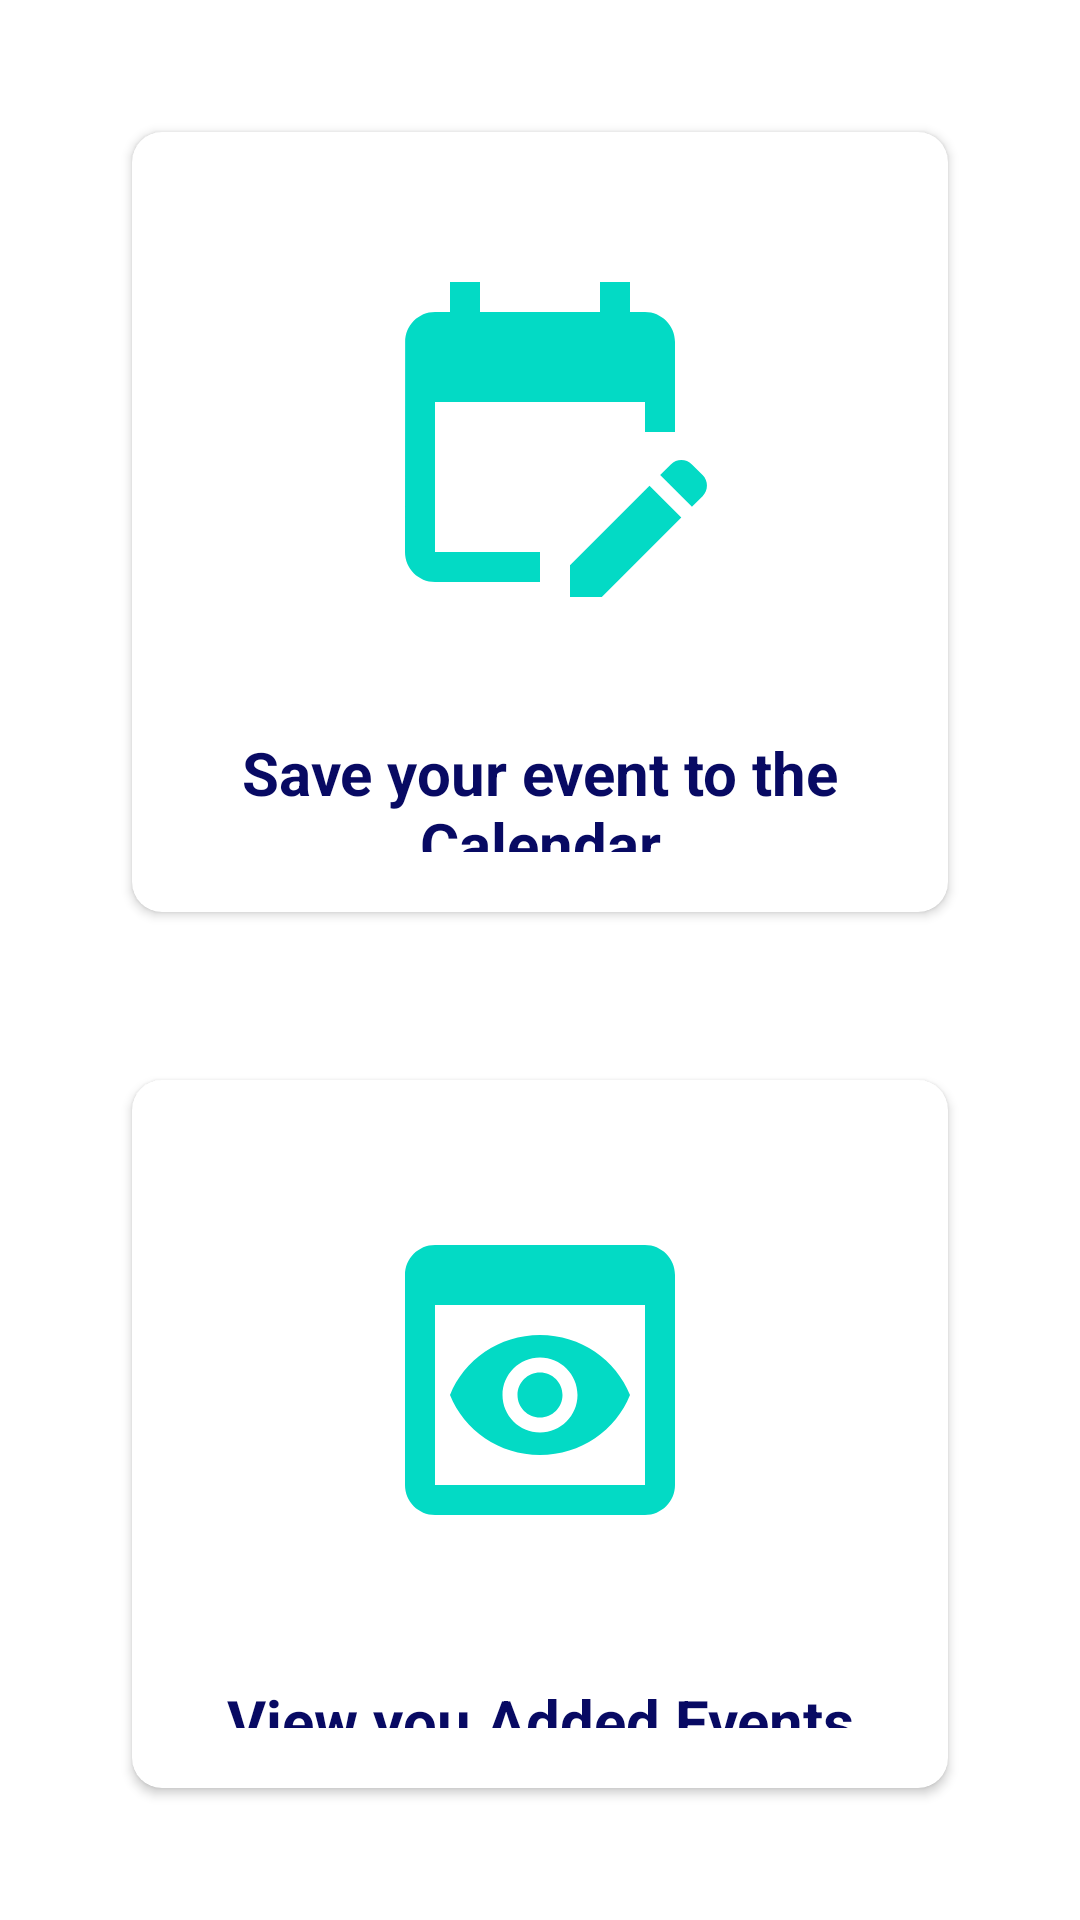

Named icons in this screenshot (1080x1920) and their centers, (x=x, y=y):
edit calendar: (x=556, y=439)
